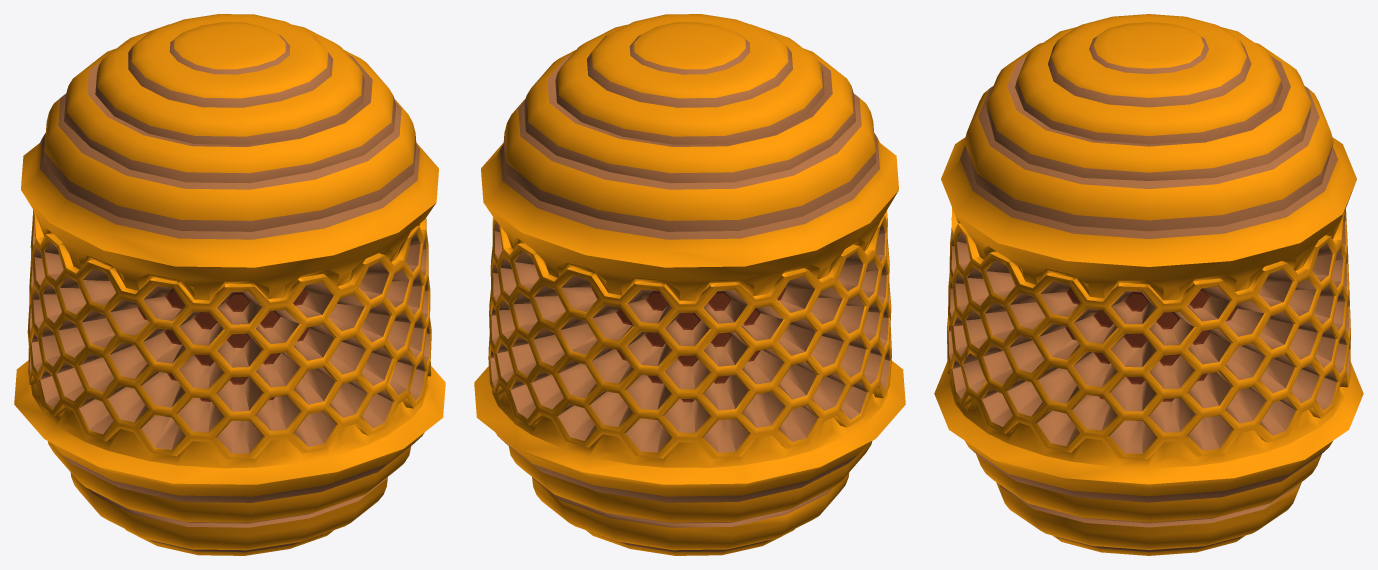
Rendered from Behive.fbx.
The picture shows the model from 3 angles, left to right: view 1: azimuth 30°, elevation 25°; view 2: azimuth 150°, elevation 25°; view 3: azimuth 270°, elevation 25°; orthographic projection.
Parts seen in each view (by area): view 1: Hive; view 2: Hive; view 3: Hive.
Boxes of the visible parts, x1,y1,x2,y2 form: Hive: (14, 14, 445, 555); Hive: (474, 14, 905, 555); Hive: (934, 14, 1363, 555).
Bounding box in the file's own units: 291 × 357 × 291.
